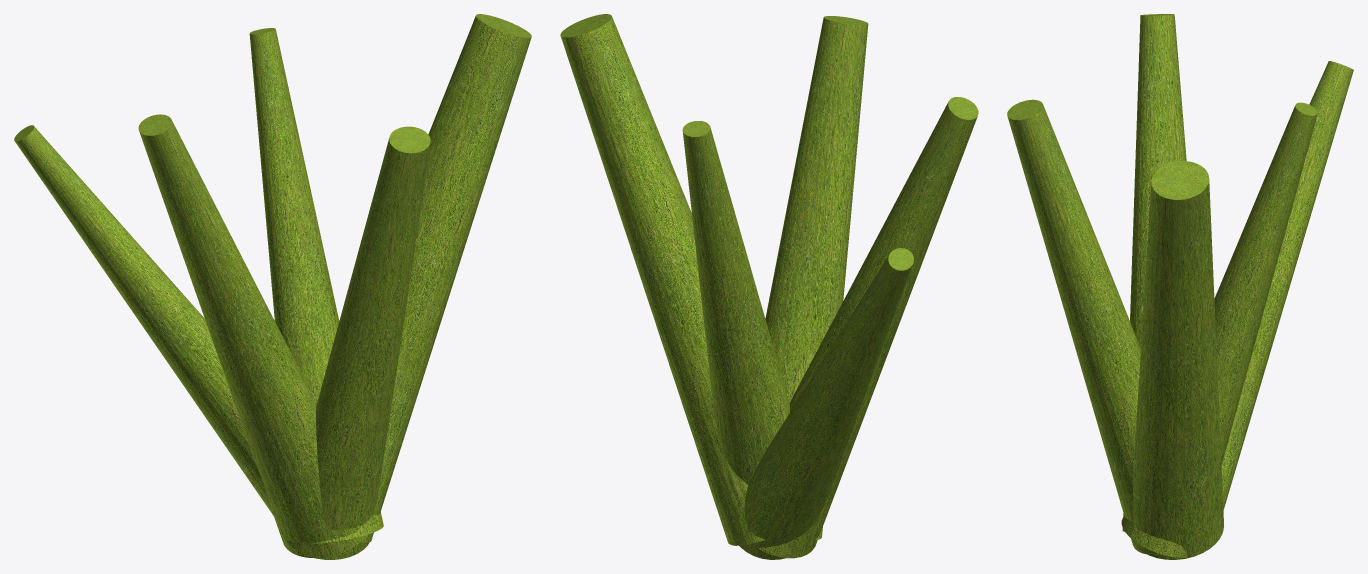
File: Grass.glb
The picture shows the model from 3 angles, left to right: view 1: azimuth 30°, elevation 25°; view 2: azimuth 150°, elevation 25°; view 3: azimuth 270°, elevation 25°; orthographic projection. The views are drawn at different scales.
Parts seen in each view (by area): view 1: Cylinder.004; view 2: Cylinder.004; view 3: Cylinder.004.
Part boxes in pixels (bbox=[...]): Cylinder.004: bbox=[14, 14, 531, 559]; Cylinder.004: bbox=[560, 14, 978, 559]; Cylinder.004: bbox=[1007, 14, 1353, 559].
Bounding box in the file's own units: 2.5 × 2.69 × 1.84.
Materials: 1 (1 with a texture image).
